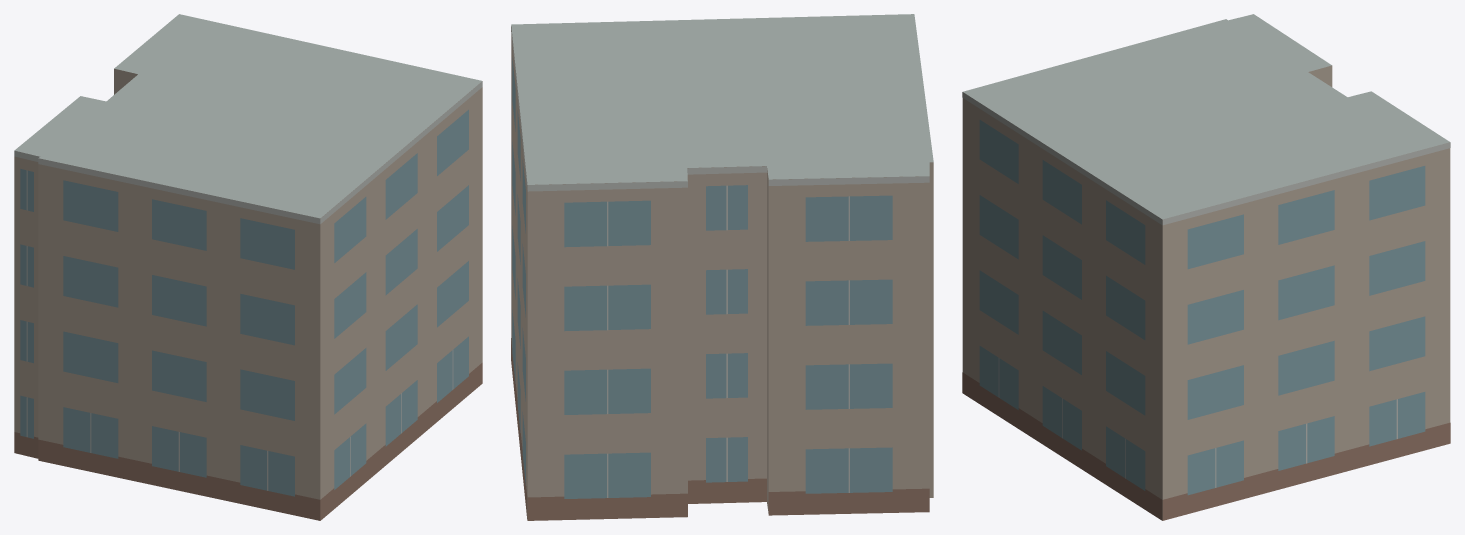
File: survey-upis-32913283.glb
3 renders of one model, left to right at view 1: azimuth 30°, elevation 25°; view 2: azimuth 150°, elevation 25°; view 3: azimuth 270°, elevation 25°, orthographic. The views are drawn at different scales.
Parts seen in each view (by area): view 1: survey-upis-32913283.tmp; view 2: survey-upis-32913283.tmp; view 3: survey-upis-32913283.tmp.
Boxes of the visible parts, x1,y1,x2,y2 form: survey-upis-32913283.tmp: (14,14,482,520); survey-upis-32913283.tmp: (511,14,933,520); survey-upis-32913283.tmp: (962,14,1450,520).
Bounding box in the file's own units: 18.29 × 12.5 × 18.35.
